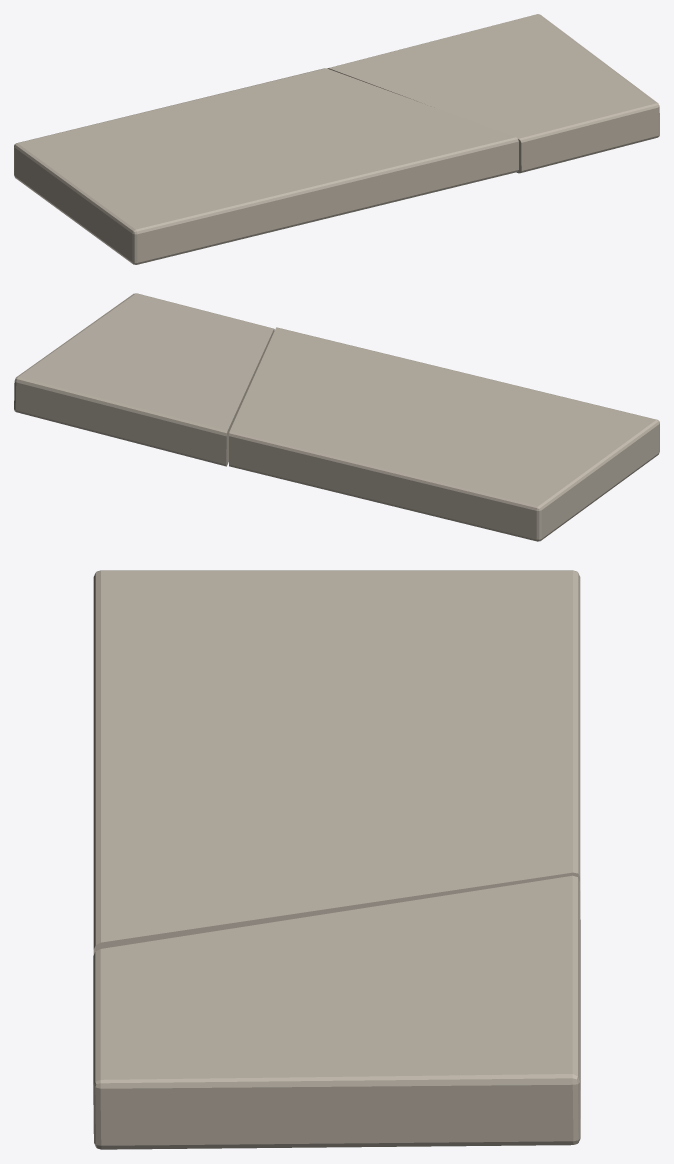
The model's file is street_slab_cracked.fbx.
3 views of the same model, one above another, from view 1: azimuth 30°, elevation 25°; view 2: azimuth 150°, elevation 25°; view 3: azimuth 270°, elevation 25° (orthographic). The views are drawn at different scales.
Parts seen in each view (by area): view 1: Street_Slab_Cracked; view 2: Street_Slab_Cracked; view 3: Street_Slab_Cracked.
Part boxes in pixels (<box>): Street_Slab_Cracked: <box>14,14,659,264</box>; Street_Slab_Cracked: <box>14,293,659,541</box>; Street_Slab_Cracked: <box>93,570,580,1149</box>.
Size of the model in its own units: 250 by 17.92 by 100.
